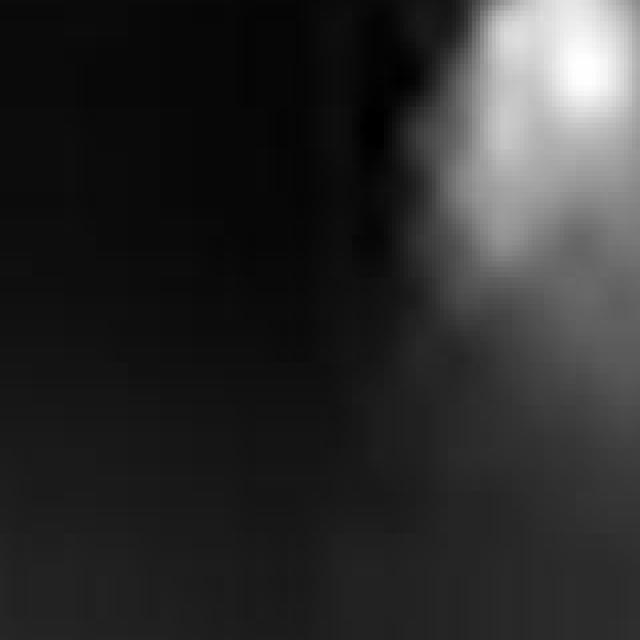person: (421, 1, 640, 465)
